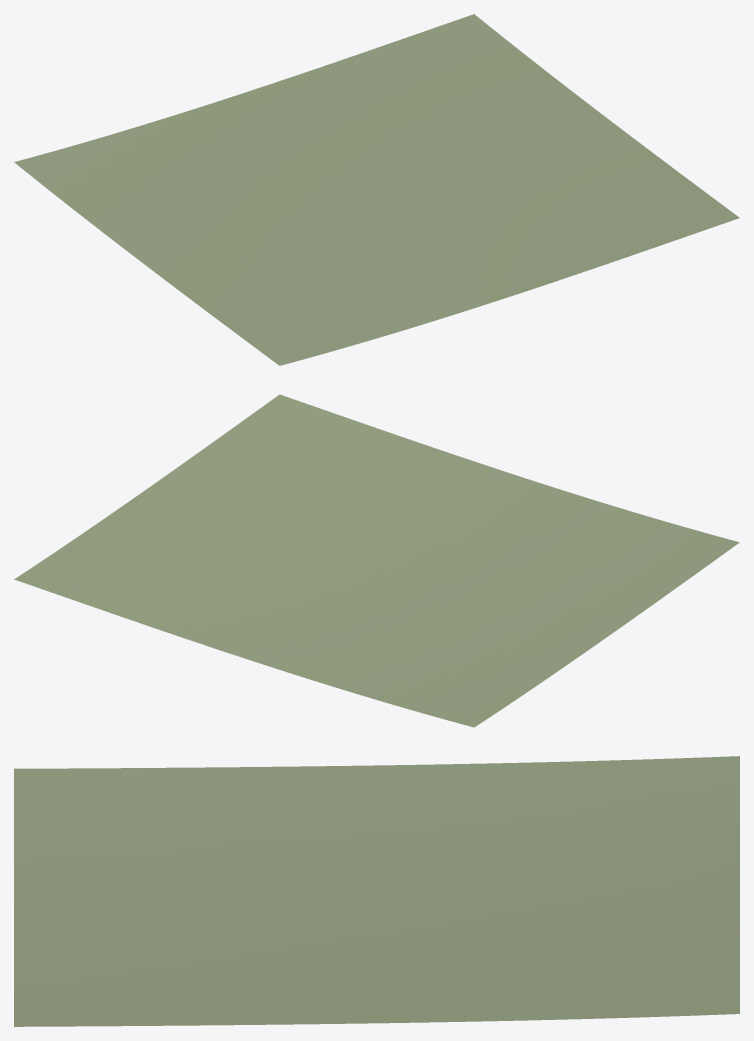
The model's file is valley-9-4.glb.
3 renders of one model, top to bottom at view 1: azimuth 30°, elevation 25°; view 2: azimuth 150°, elevation 25°; view 3: azimuth 270°, elevation 25°, orthographic. The views are drawn at different scales.
Parts seen in each view (by area): view 1: valley-9-4; view 2: valley-9-4; view 3: valley-9-4.
Boxes of the visible parts, box(x1,y1,x2,y2) form: valley-9-4: box(14, 14, 739, 365); valley-9-4: box(14, 394, 739, 727); valley-9-4: box(14, 756, 739, 1026).
Size of the model in its own units: 256 by 23.98 by 256.
